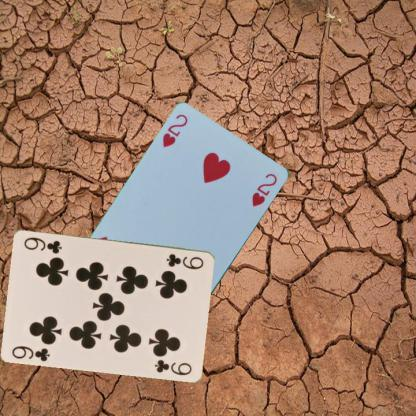2h: (159, 112, 189, 149)
9c: (164, 251, 205, 270), (10, 343, 51, 362)
